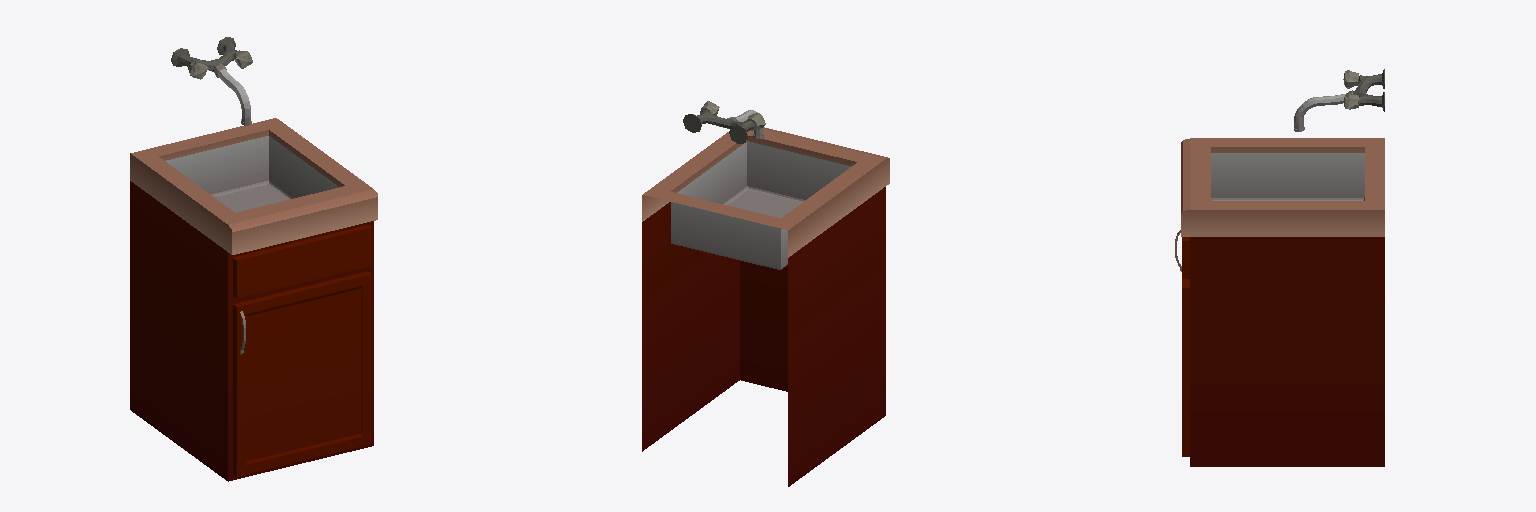
3 views of the same model, side by side, from view 1: azimuth 30°, elevation 25°; view 2: azimuth 150°, elevation 25°; view 3: azimuth 270°, elevation 25° (orthographic).
Visible parts, largest first — view 1: pia; view 2: pia; view 3: pia.
Part boxes in pixels (x1,y1,x2,y2): pia: (130, 37, 377, 481); pia: (642, 101, 889, 486); pia: (1175, 69, 1384, 466).
Bounding box in the file's own units: 0.4002 × 0.9164 × 0.4998.
1 materials, 1 textured.